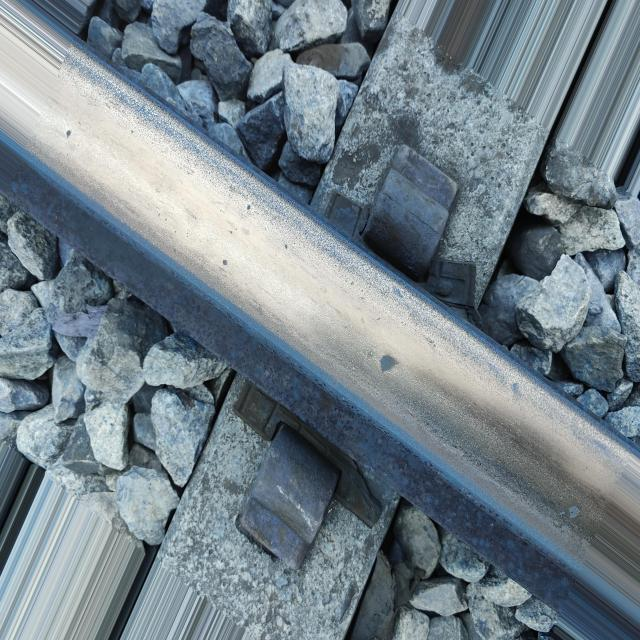Missing Fastener: (346, 120, 473, 310), (223, 427, 347, 574)
